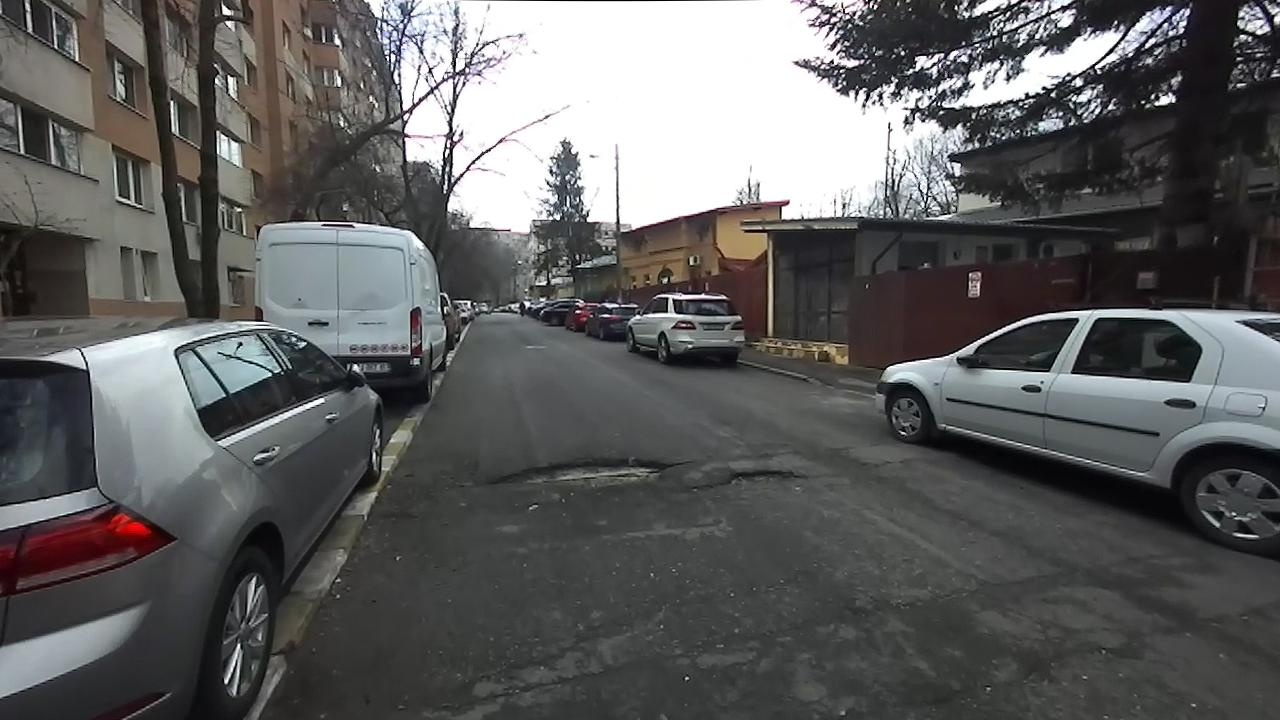pothole: (483, 453, 685, 496), (701, 464, 809, 493)
